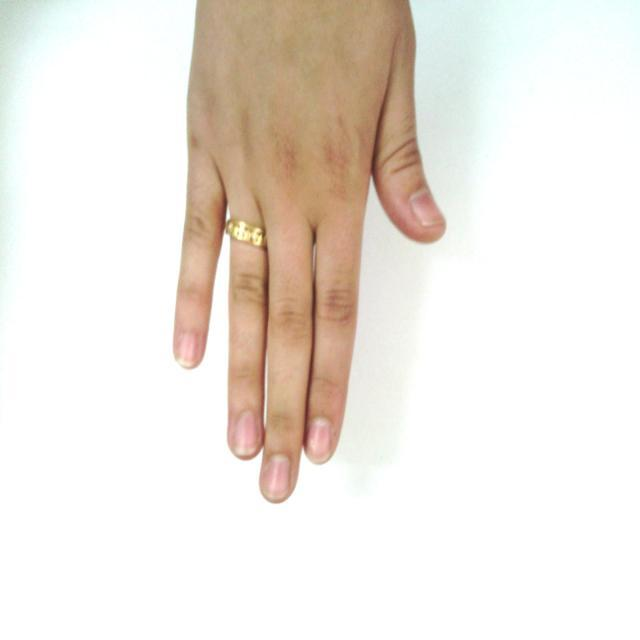Fingernail: (411, 190, 445, 227), (263, 455, 291, 499), (306, 418, 332, 463), (234, 412, 260, 456), (178, 333, 201, 366)
